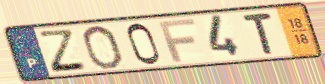0: (125, 21, 161, 66)
4: (208, 13, 245, 61)
F: (156, 17, 197, 63)
O: (80, 24, 125, 71)
T: (240, 11, 276, 56)
Z: (38, 29, 90, 74)
